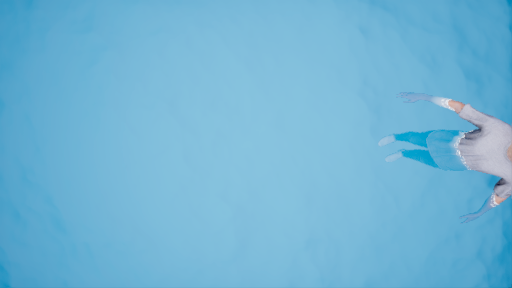person: (384, 89, 512, 230)
